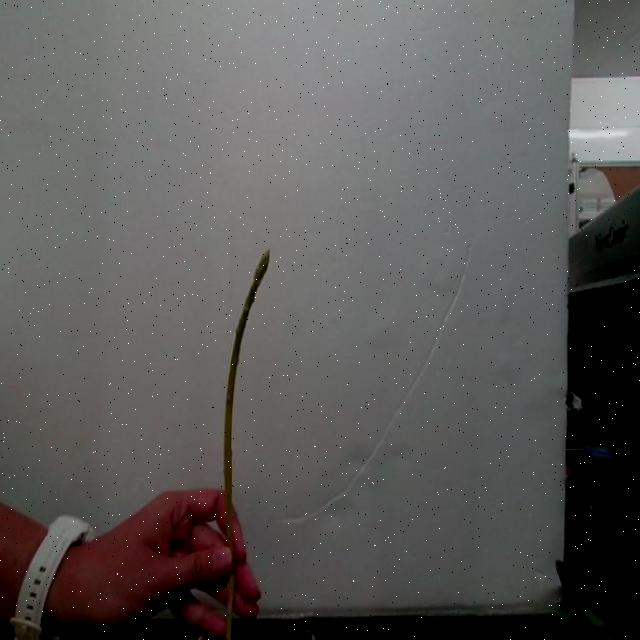aspargus: (224, 251, 271, 580)
